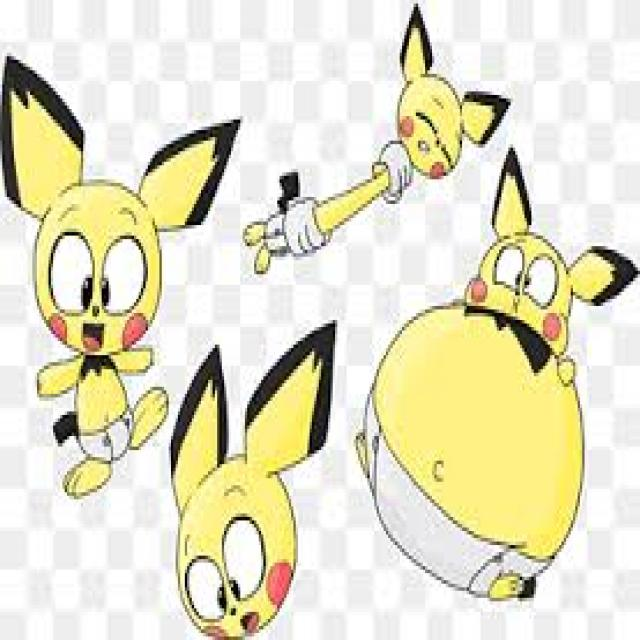pichu: (0, 38, 196, 478), (170, 313, 369, 640), (375, 32, 498, 186)
